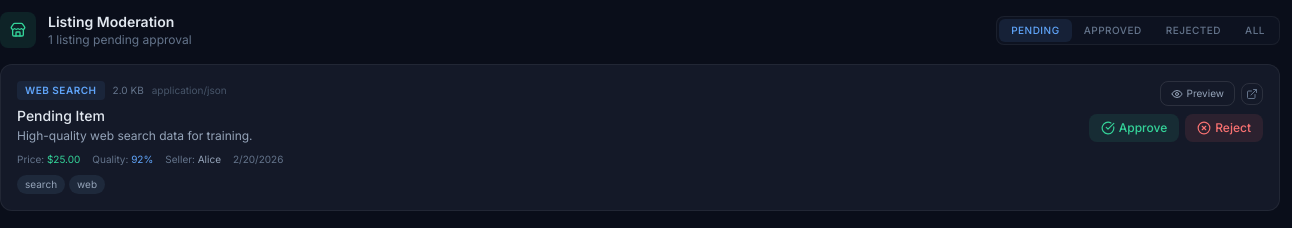
Scenario: ListingModeration › status tabs filter listings - approved tab
Click the button "approved".
click(1113, 30)  # box x1=1072 y1=18 x2=1154 y2=42
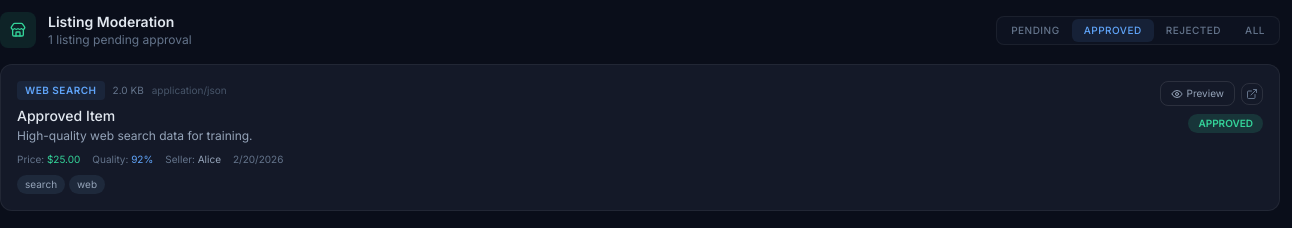
Check: the heading "Pending Item" is gone
Check: the heading "Approved Item" is shown, box x1=17 y1=107 x2=115 y2=124
